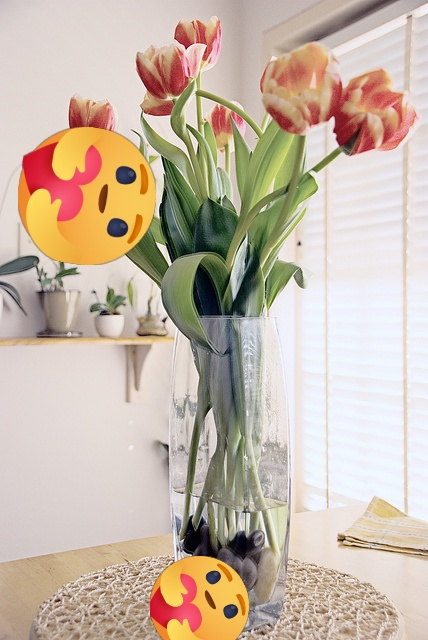care: (18, 127, 156, 265), (150, 556, 249, 640)
